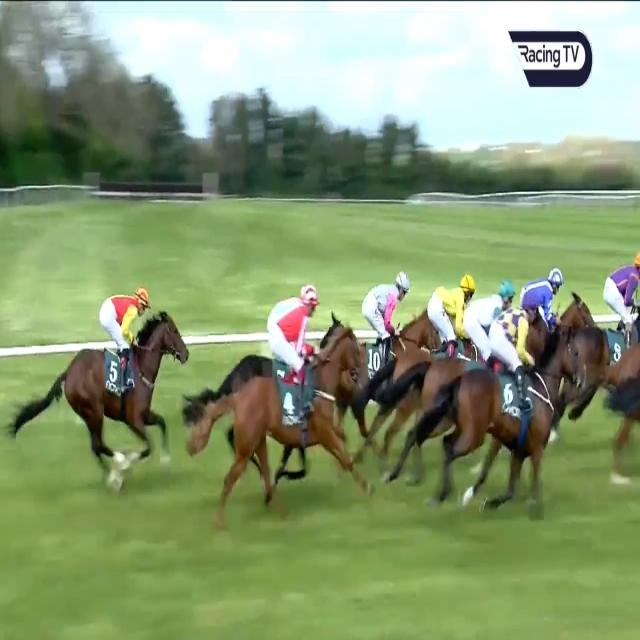horses-racing: (216, 286, 359, 538), (425, 294, 578, 519), (55, 285, 189, 477), (225, 280, 348, 382), (348, 270, 436, 386), (415, 268, 483, 354), (593, 237, 640, 360), (458, 277, 524, 359), (518, 260, 594, 324)
